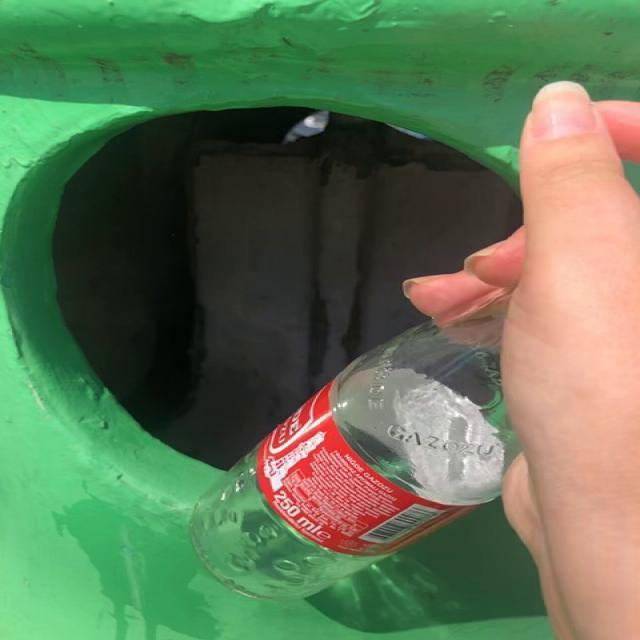glass: (192, 311, 520, 600)
